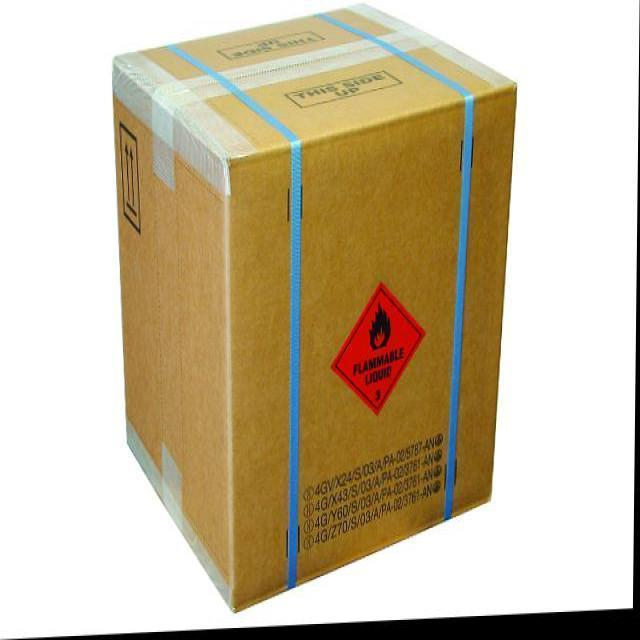box: (105, 0, 520, 615)
